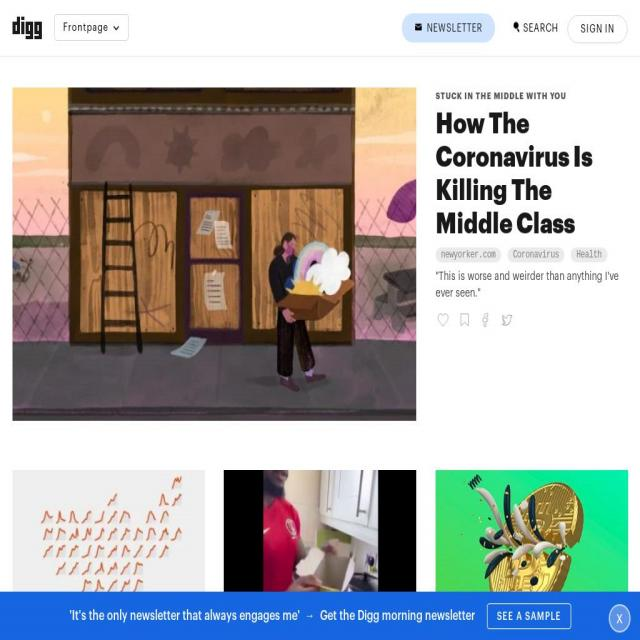follow-options: (433, 309, 521, 330)
login-option: (566, 12, 632, 46)
navigation-blocks: (8, 455, 630, 592), (398, 5, 638, 53)
options: (52, 8, 126, 47)
